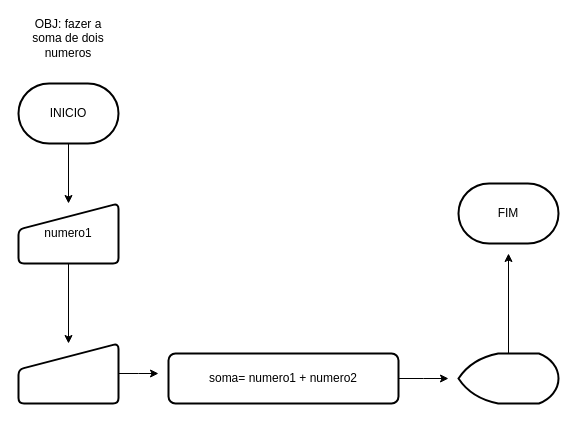
Image size: 576x422. Some labels were removed from this diagram. Each missing label, with the box of its shape:
numero2: (17, 342, 119, 404)
soma: (457, 352, 559, 404)
